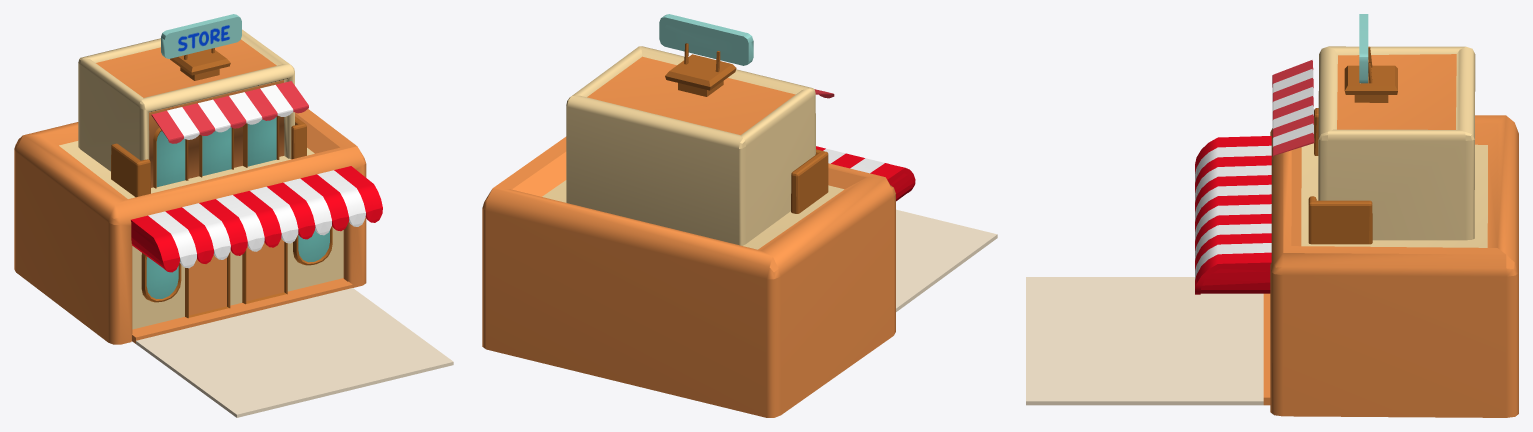
The model's file is SM_Store2.fbx.
The picture shows the model from 3 angles, left to right: view 1: azimuth 30°, elevation 25°; view 2: azimuth 150°, elevation 25°; view 3: azimuth 270°, elevation 25°; orthographic projection. The views are drawn at different scales.
Visible parts, largest first — view 1: SM_Store2; view 2: SM_Store2; view 3: SM_Store2.
Boxes of the visible parts, <box> form: SM_Store2: <box>14,14,453,417</box>; SM_Store2: <box>482,14,997,417</box>; SM_Store2: <box>1026,14,1518,417</box>.
Bounding box in the file's own units: 931 × 903 × 1304.
